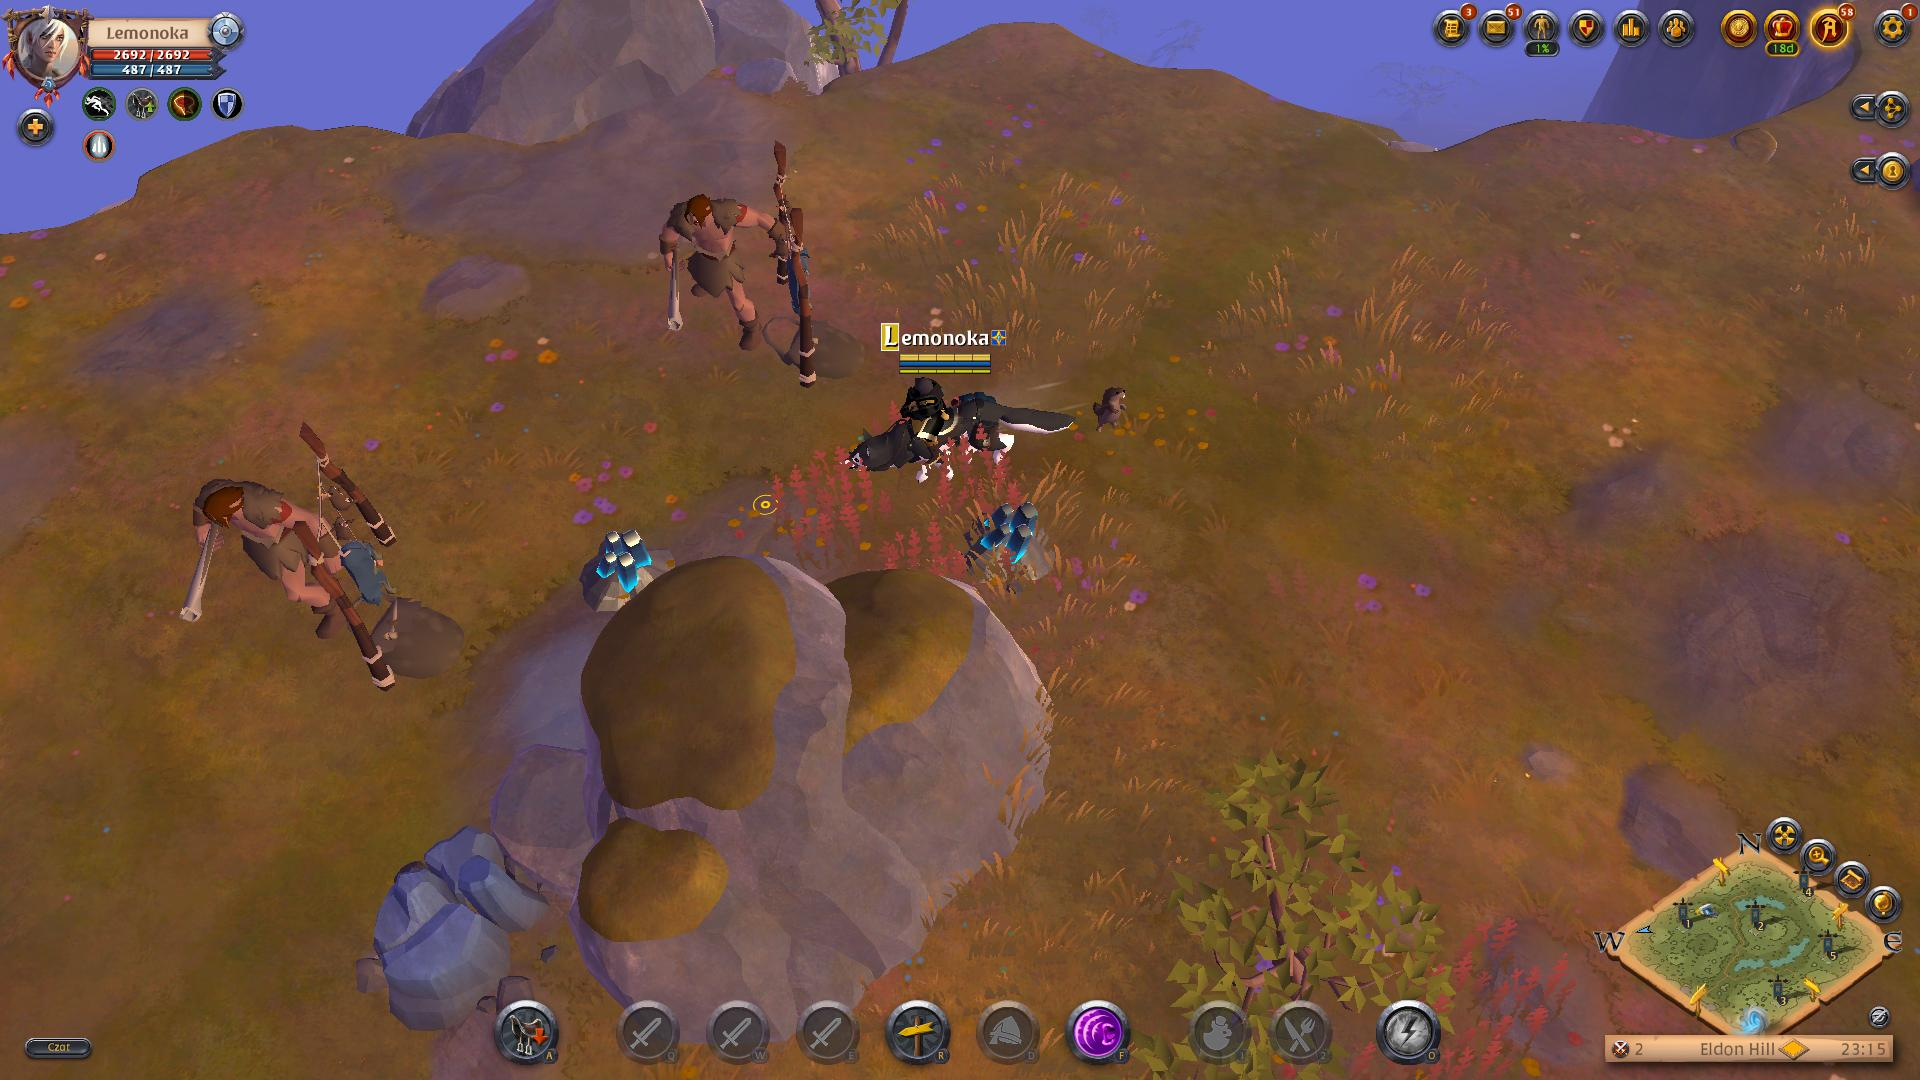ore tier 4: (582, 526, 680, 620), (964, 500, 1062, 589)
rock tier 4: (356, 829, 554, 1034)
